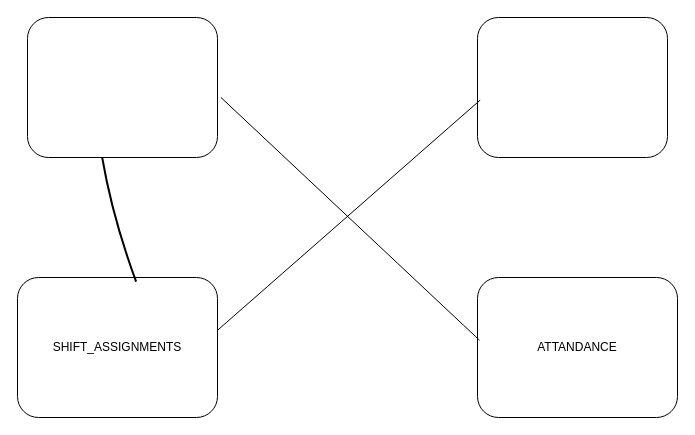
The diagram is 695 pixels wide and 435 high, and some of its shapes have lost their labels. Each missing label, with the box of its shape:
EMPLOYEES: (26, 16, 218, 158)
SHIFTS: (476, 16, 668, 158)
